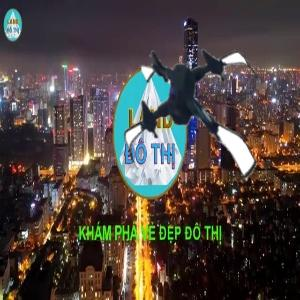drone: (115, 36, 278, 199)
